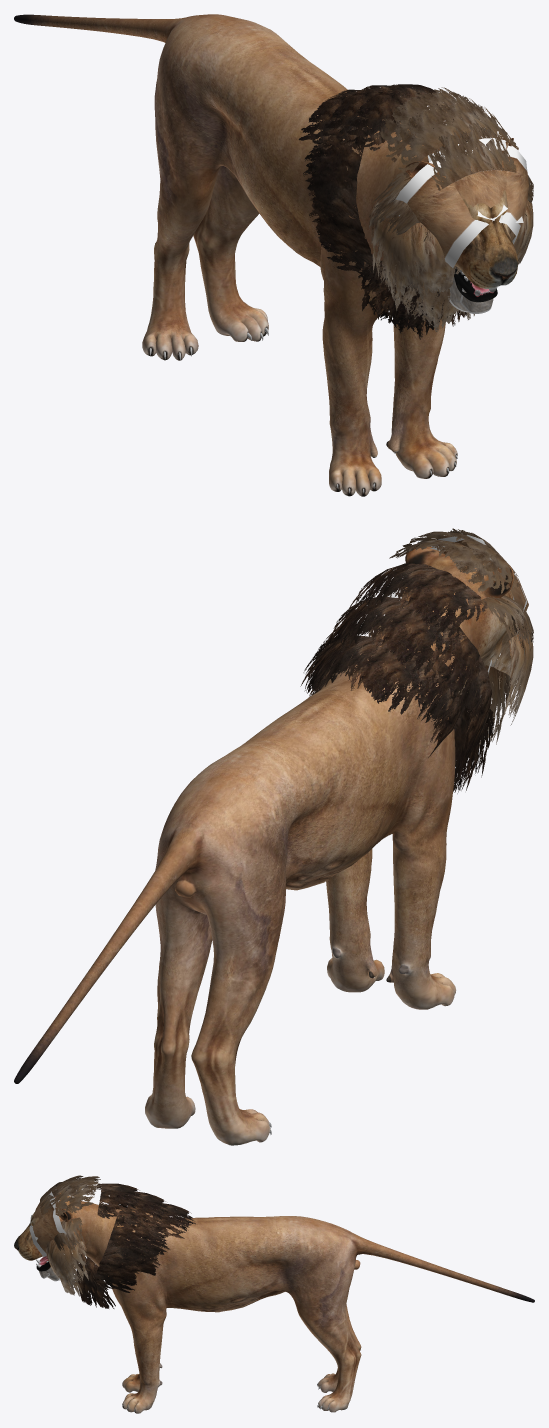
File: lionTestBillboards.fbx
The picture shows the model from 3 angles, top to bottom: view 1: azimuth 30°, elevation 25°; view 2: azimuth 150°, elevation 25°; view 3: azimuth 270°, elevation 25°; orthographic projection. The views are drawn at different scales.
Visible parts, largest first — view 1: Lion_body, pPlane16, leftHair (×2), leftCheek (×2), pPlane23, pPlane22, pPlane18, pPlane24, pPlane14, pPlane21, pPlane4, leftCheek1 (+4 smaller); view 2: Lion_body, pPlane20, pPlane19, pPlane18, pPlane16, pPlane17, leftCheek, pPlane24, pPlane15, leftCheek1, pPlane23, pPlane4; view 3: Lion_body, pPlane16, leftCheek, pPlane18, pPlane19, pPlane20, pPlane17, leftHair, pPlane23, pPlane24, leftCheek1, pPlane21 (+2 smaller).
Part boxes in pixels (x1,y1,x2,y2): Lion_body: [14, 14, 518, 496]; pPlane16: [303, 119, 379, 279]; leftHair (×2): [395, 145, 528, 267]; leftCheek (×2): [368, 199, 533, 300]; pPlane23: [394, 95, 518, 177]; pPlane22: [429, 118, 516, 190]; pPlane18: [346, 84, 438, 150]; pPlane24: [380, 87, 499, 162]; pPlane14: [428, 138, 523, 223]; pPlane21: [366, 260, 466, 339]; pPlane4: [393, 260, 474, 331]; leftCheek1: [372, 171, 426, 241]; Lion_body: [14, 546, 513, 1145]; pPlane20: [300, 635, 439, 714]; pPlane19: [324, 596, 462, 675]; pPlane18: [348, 563, 487, 637]; pPlane16: [430, 615, 492, 768]; pPlane17: [399, 640, 462, 757]; leftCheek: [492, 618, 533, 725]; pPlane24: [389, 540, 510, 593]; pPlane15: [453, 718, 487, 793]; leftCheek1: [481, 595, 533, 650]; pPlane23: [402, 531, 520, 588]; pPlane4: [458, 665, 510, 747]; Lion_body: [14, 1190, 534, 1413]; pPlane16: [95, 1211, 153, 1292]; leftCheek: [45, 1240, 88, 1289]; pPlane18: [96, 1183, 145, 1218]; pPlane19: [124, 1191, 171, 1226]; pPlane20: [149, 1203, 195, 1238]; pPlane17: [129, 1213, 170, 1275]; leftHair: [29, 1200, 68, 1256]; pPlane23: [55, 1175, 83, 1216]; pPlane24: [68, 1176, 101, 1213]; leftCheek1: [54, 1217, 84, 1250]; pPlane21: [76, 1254, 99, 1307].
Size of what is drawn, in the model's own units: 45.31 by 114 by 242.
